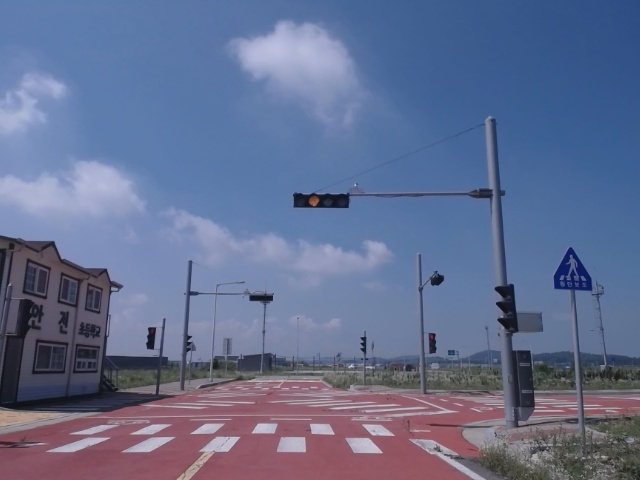orange_4: (293, 194, 350, 209)
